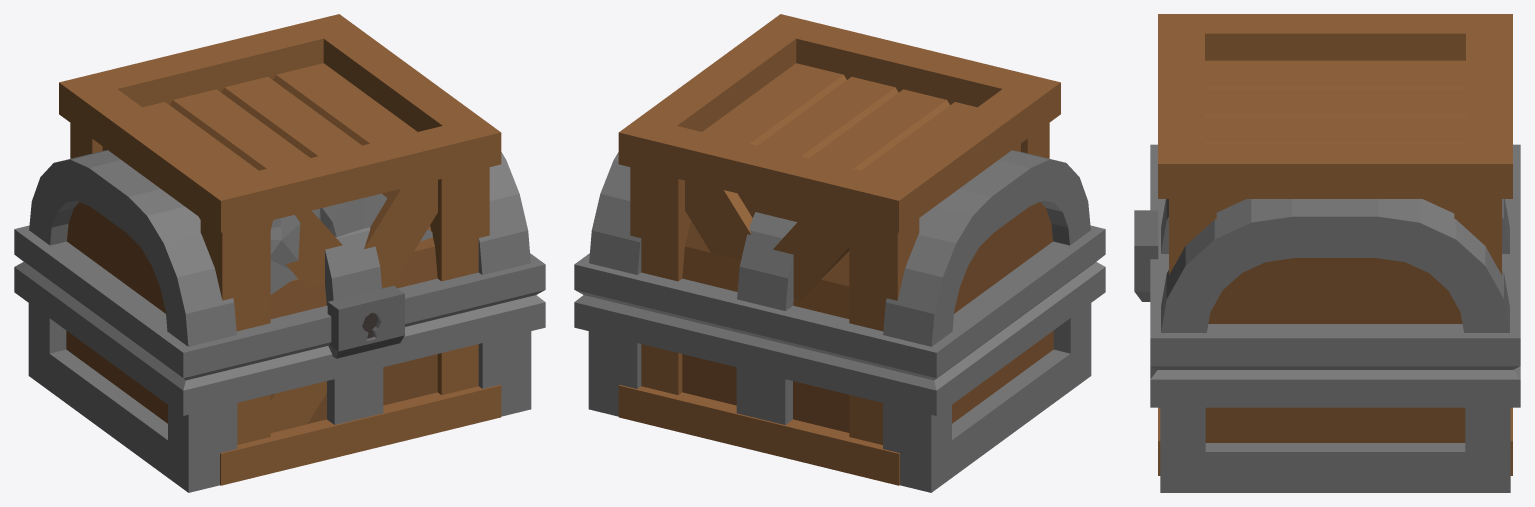
The model's file is dungeon_rock_02.fbx.
3 views of the same model, side by side, from view 1: azimuth 30°, elevation 25°; view 2: azimuth 150°, elevation 25°; view 3: azimuth 270°, elevation 25° (orthographic). The views are drawn at different scales.
Visible parts, largest first — view 1: box_01, box_03, rock_12; view 2: box_01, box_03; view 3: box_01, box_03.
Part boxes in pixels (x1=…): box_01: x1=14, y1=150, x2=545, y2=492; box_03: x1=59, y1=14, x2=501, y2=485; rock_12: x1=270, y1=193, x2=432, y2=294; box_01: x1=574, y1=150, x2=1105, y2=492; box_03: x1=618, y1=14, x2=1060, y2=485; box_01: x1=1134, y1=144, x2=1520, y2=492; box_03: x1=1158, y1=14, x2=1512, y2=475.
Size of the model in its own units: 124 by 148 by 111.
1 material, 1 textured.
